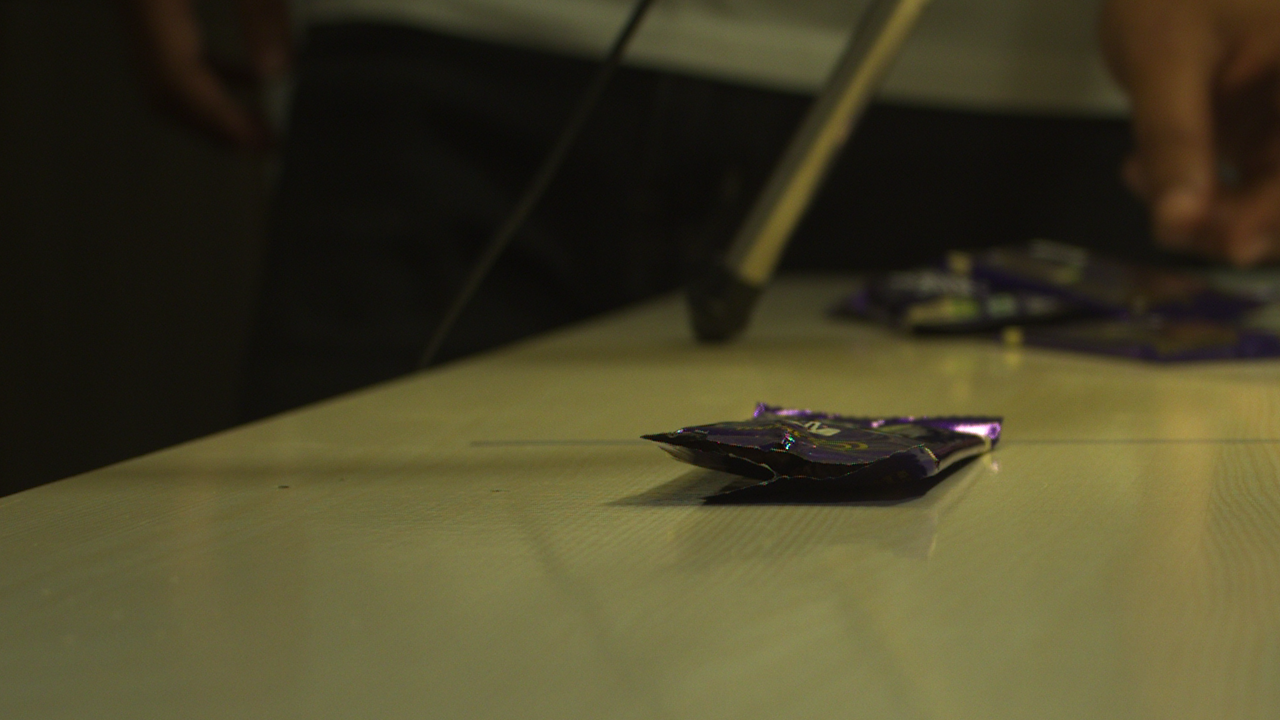Good: (647, 430, 935, 503)
